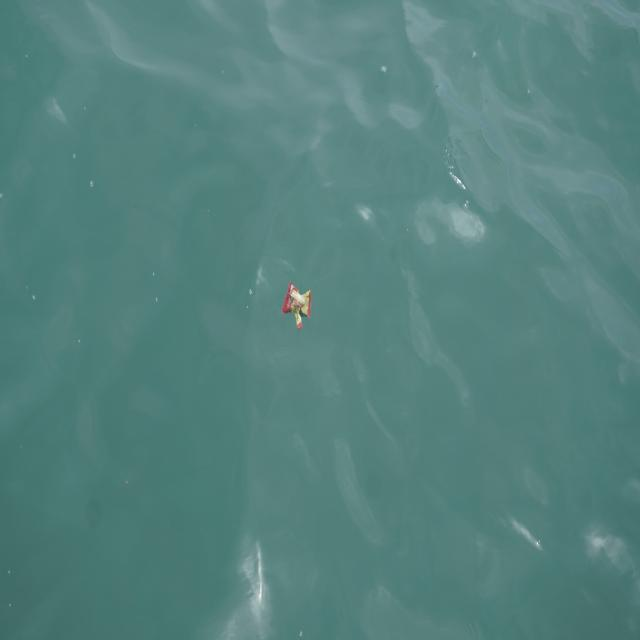Bungkus Makanan: (279, 279, 316, 331)
